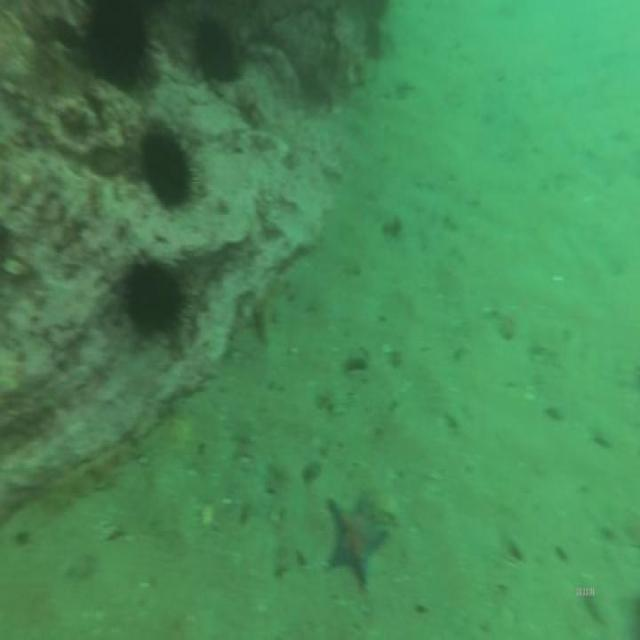echinus: (111, 242, 197, 356), (76, 3, 166, 98), (136, 118, 199, 215), (195, 12, 247, 94)
starfish: (324, 490, 390, 591)
